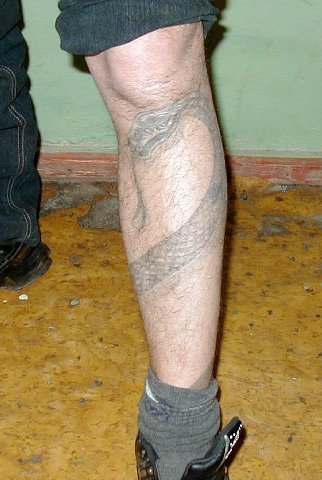tatu7_zmeya: (109, 102, 238, 307)
